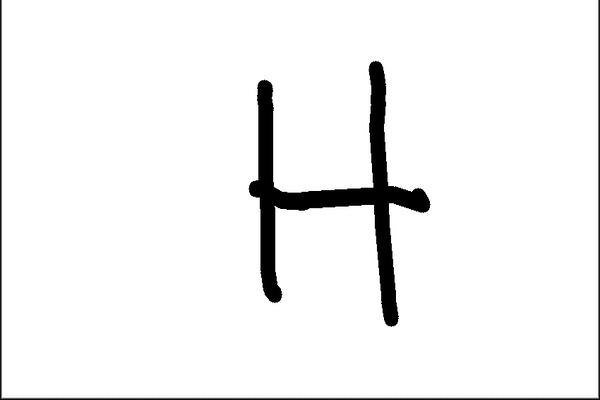H: (229, 57, 434, 336)
